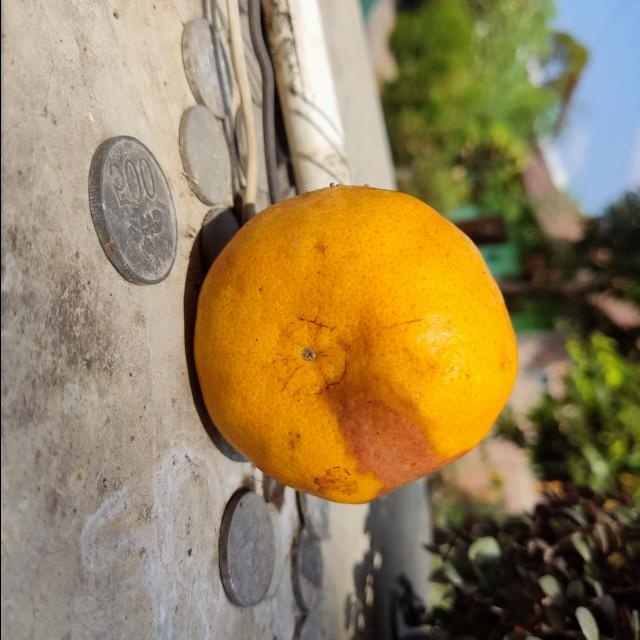agrume: (193, 185, 519, 505)
